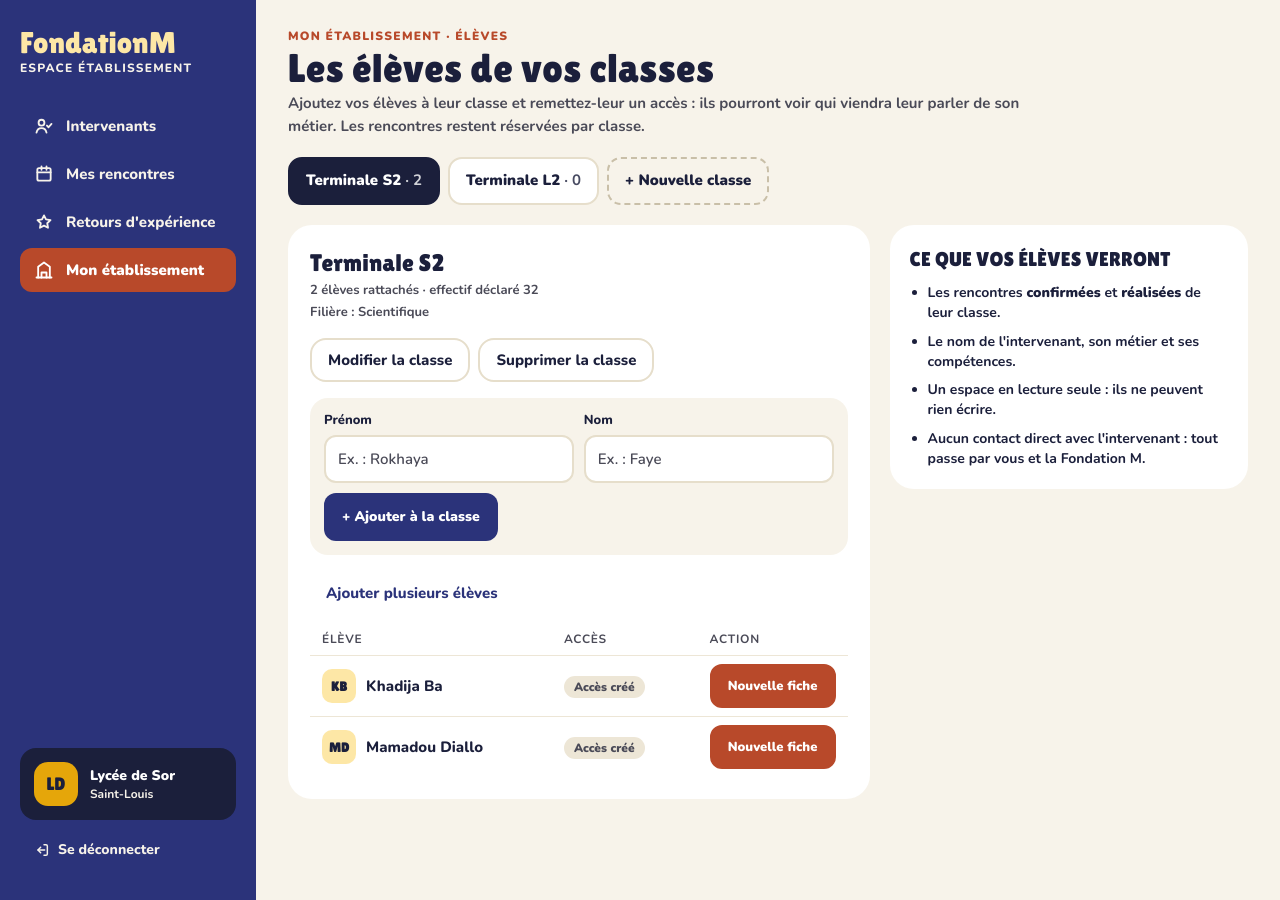
Test: Mon établissement › ne réessaie pas un 409 sans code
expect the text "2 élèves rattachés · effectif déclaré 32" is shown: met, box [310,281,539,300]
In the field labelled "Prénom": (449, 459) [324,435,574,483], type "Rokhaya"
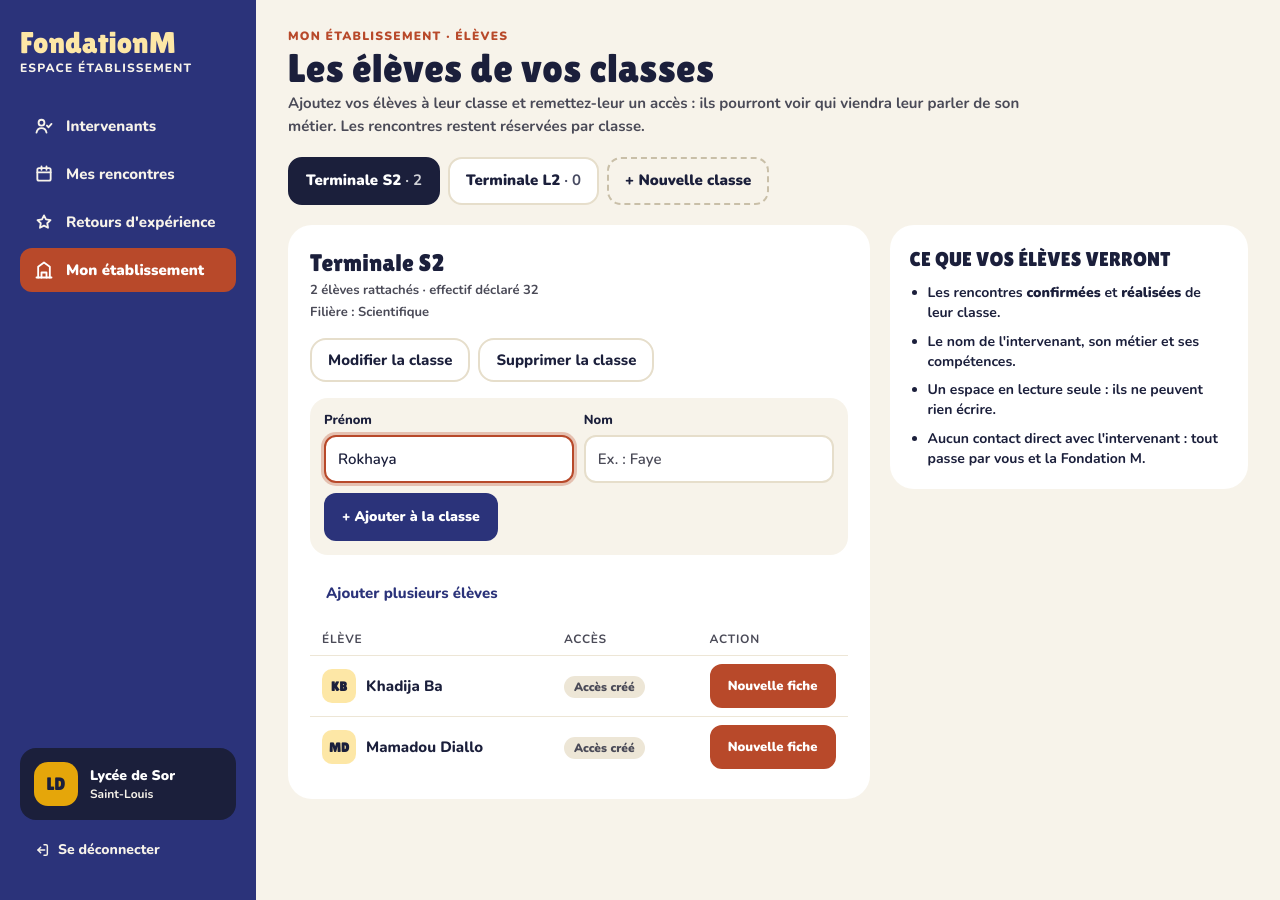
In the field labelled "Nom": (709, 459) [584,435,834,483], type "Faye"
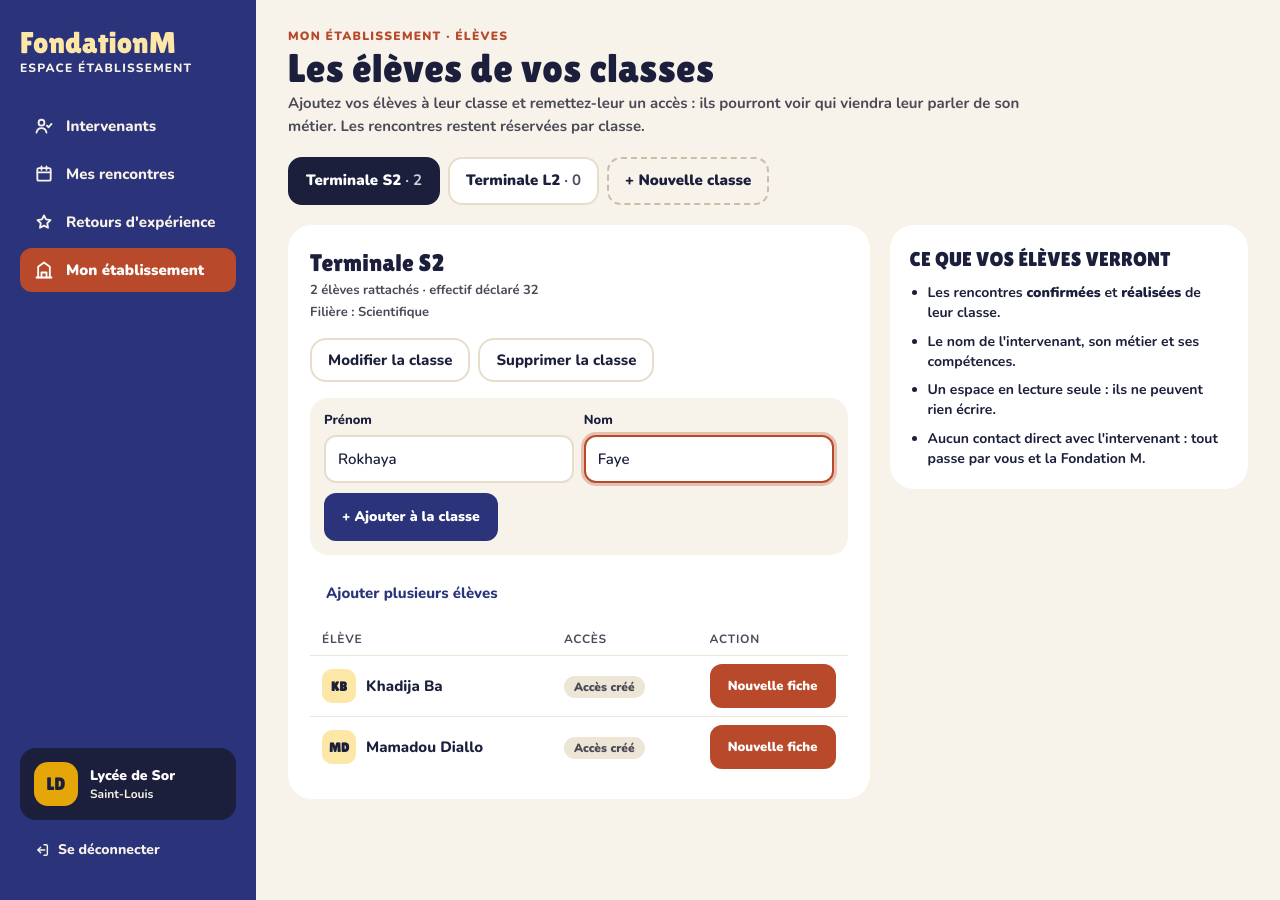
Click the button "+ Ajouter à la classe": click(411, 517) [324,493,498,541]
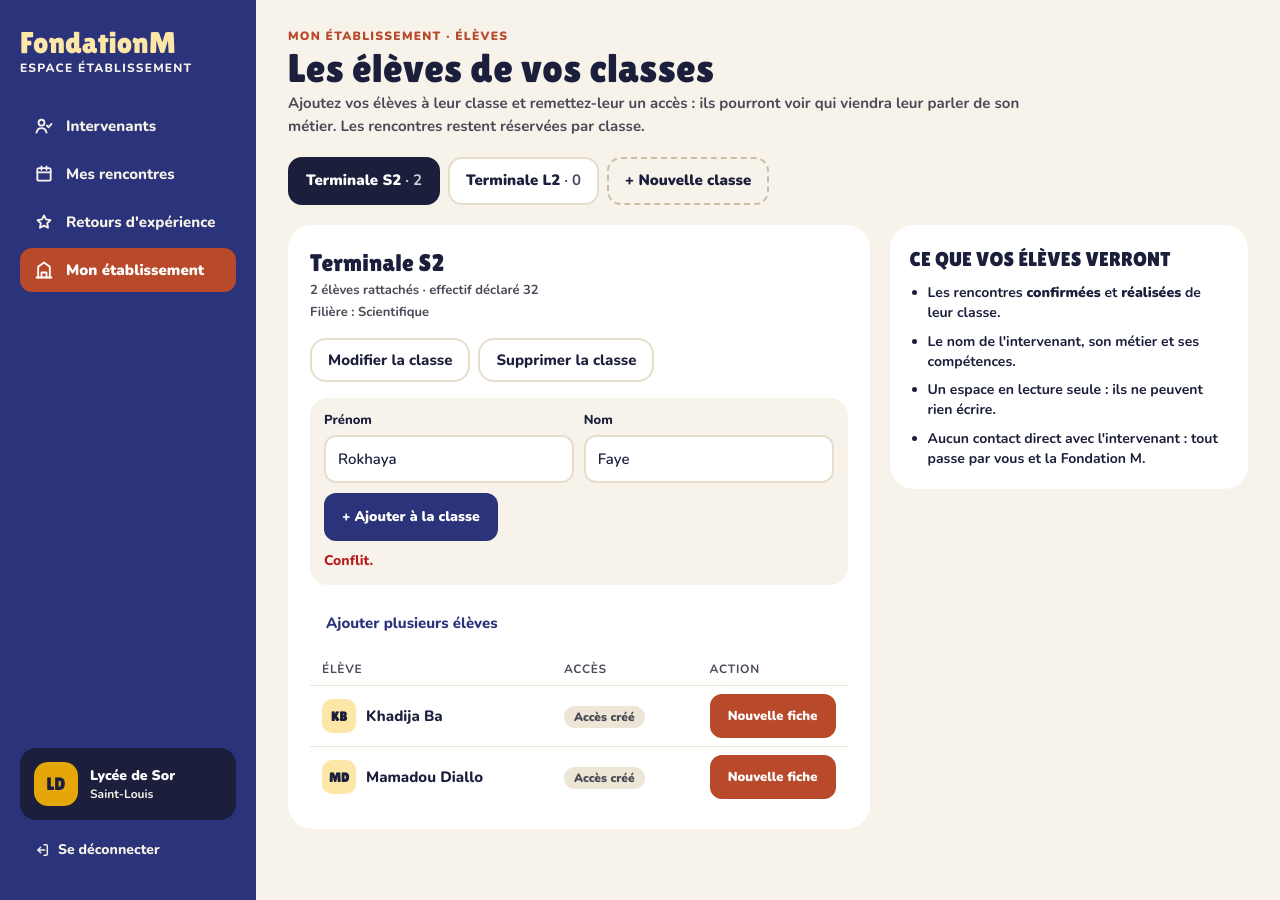
expect the message "Conflit." is shown: met, box [324,551,373,570]
